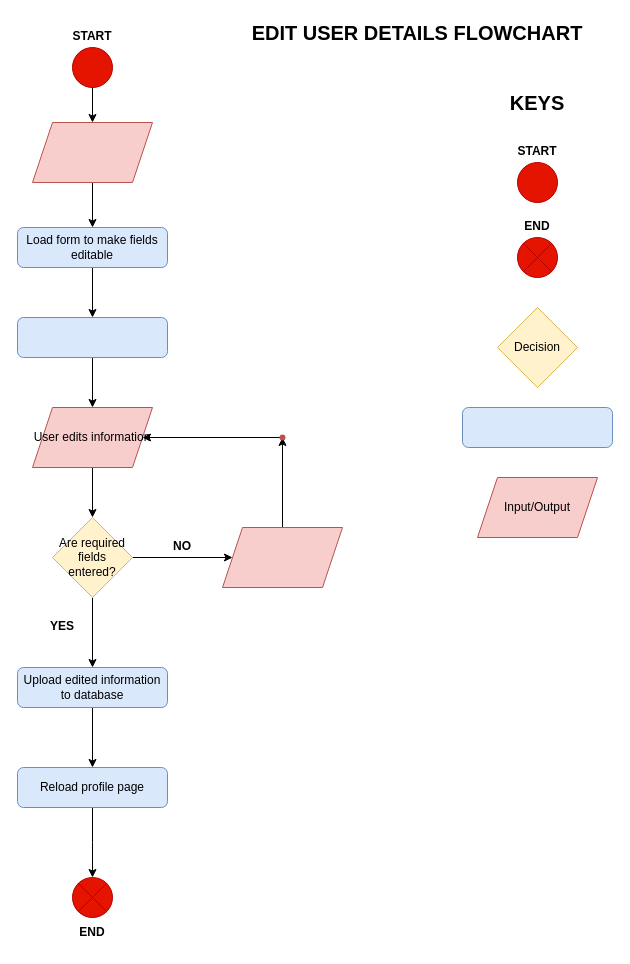
Image size: 630x964. Some labels were removed from this diagram. Each missing label, with the centre of its shape:
Highlight fields that require information: point 282,557
Pre-fill fields with data from database: point 92,337
System Process: point 537,427
User clicks edit details button: point 92,152
